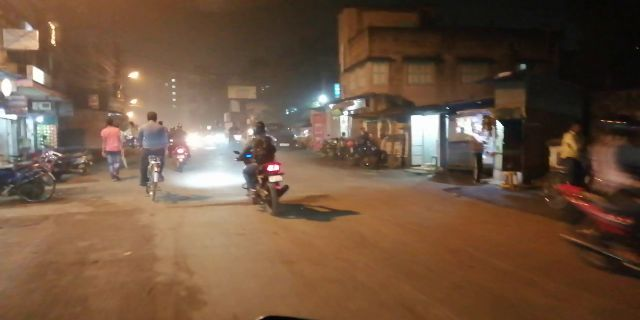Cycle: (134, 108, 169, 203)
Motorbike: (228, 118, 297, 219)
